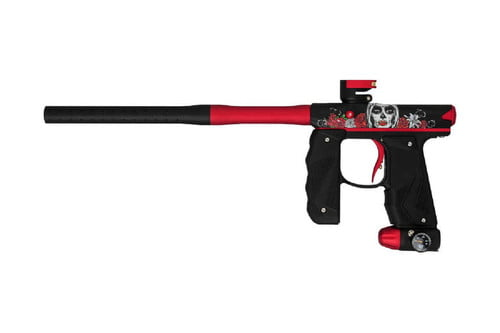Arma Falsa: (38, 78, 460, 254)
